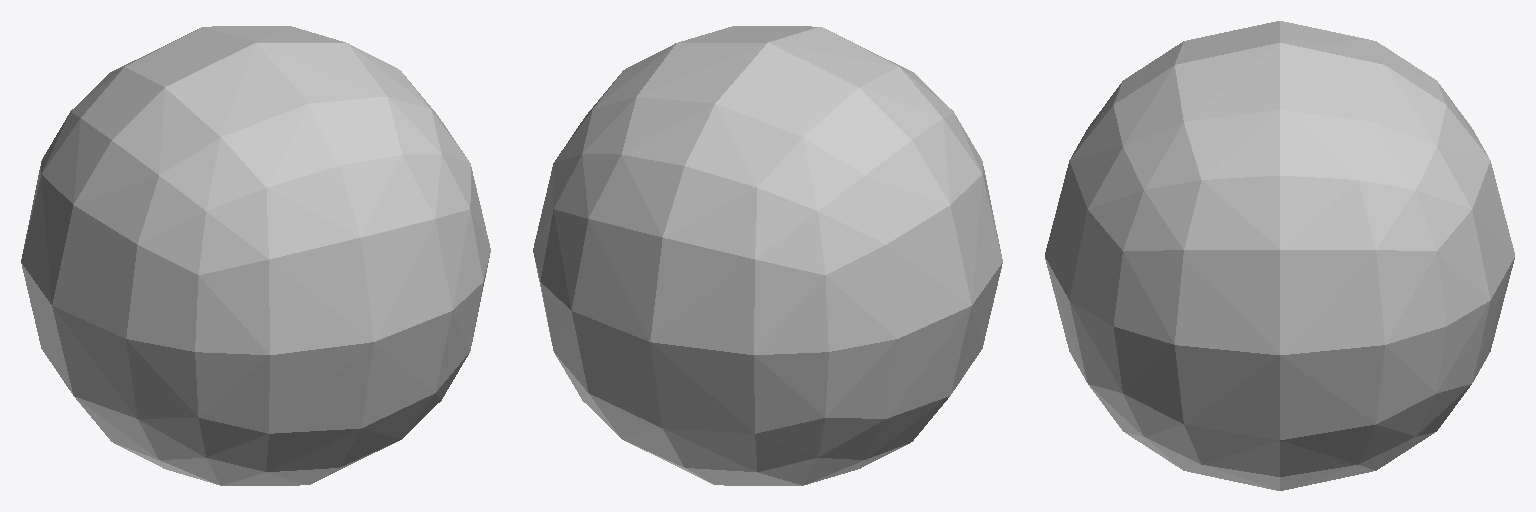
File: football.obj
The picture shows the model from 3 angles: view 1: azimuth 30°, elevation 25°; view 2: azimuth 150°, elevation 25°; view 3: azimuth 270°, elevation 25°; orthographic projection.
Parts seen in each view (by area): view 1: Box002; view 2: Box002; view 3: Box002.
Part boxes in pixels (bbox=[...]): Box002: bbox=[21, 26, 490, 485]; Box002: bbox=[533, 26, 1002, 485]; Box002: bbox=[1045, 21, 1514, 490].
Bounding box in the file's own units: 1.93 × 1.93 × 1.93.